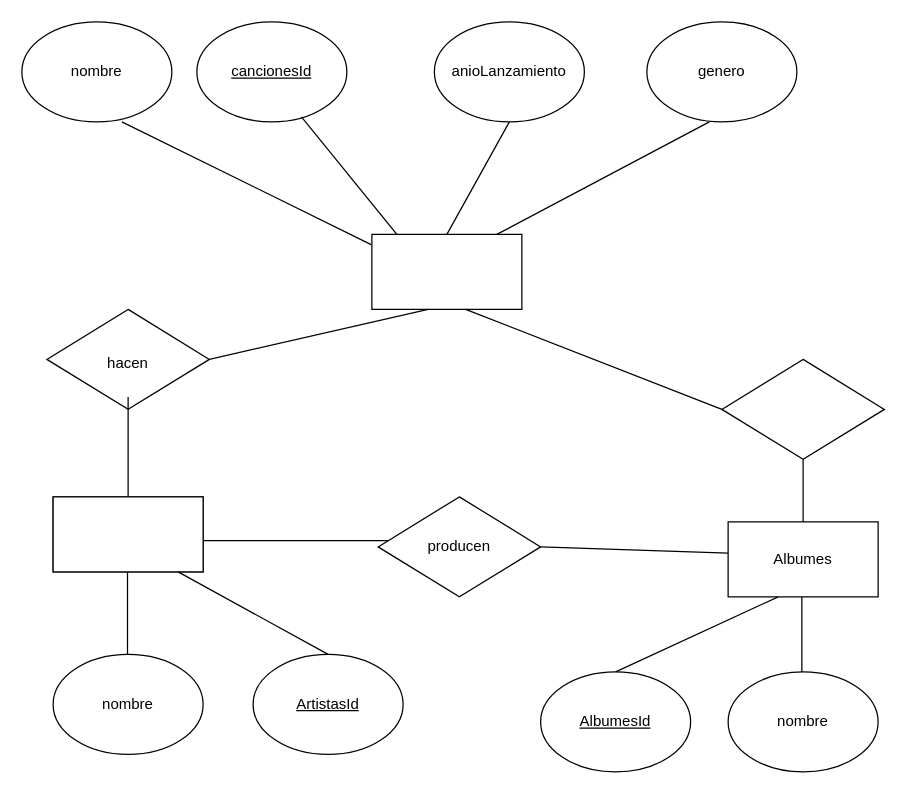
This 906x794 diagram has some shape labels left out. The box of each missing label's shape, as (x1, y1, x2, y2) in pixels:
Artistas: (52, 496, 203, 572)
Canciones: (371, 233, 522, 309)
tienen: (721, 358, 884, 459)
